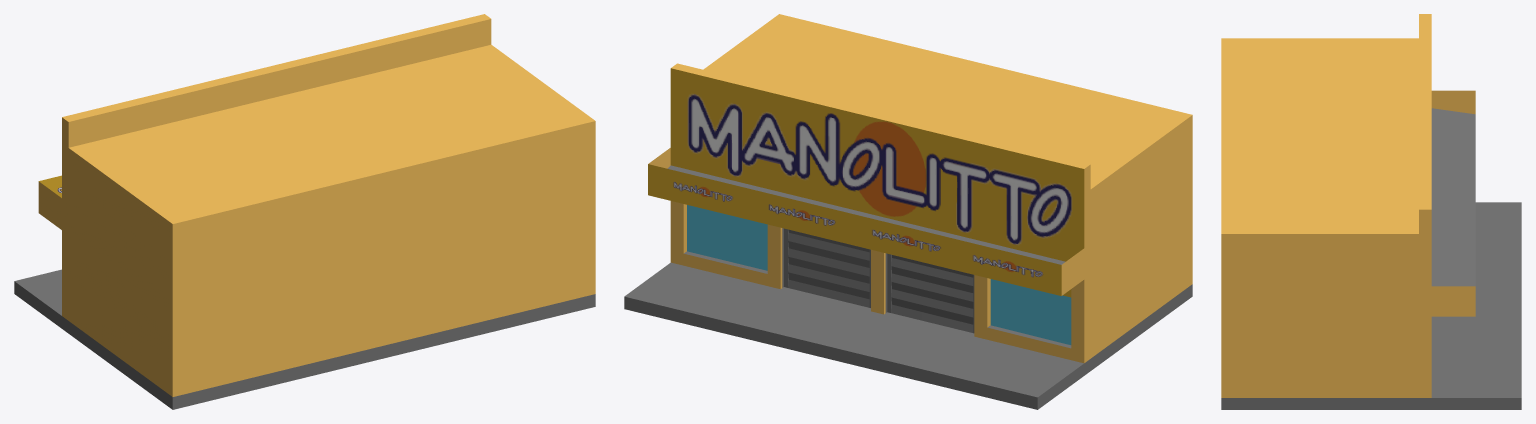
Rendered from MANOLITTO LOJA 1.fbx.
3 renders of one model, left to right at view 1: azimuth 30°, elevation 25°; view 2: azimuth 150°, elevation 25°; view 3: azimuth 270°, elevation 25°, orthographic. The views are drawn at different scales.
Visible parts, largest first — view 1: Cubo; view 2: Cubo; view 3: Cubo.
Boxes of the visible parts, x1,y1,x2,y2 form: Cubo: [14, 14, 595, 409]; Cubo: [624, 14, 1192, 409]; Cubo: [1221, 14, 1521, 409].
Size of the model in its own units: 12.05 by 5.76 by 7.83.
